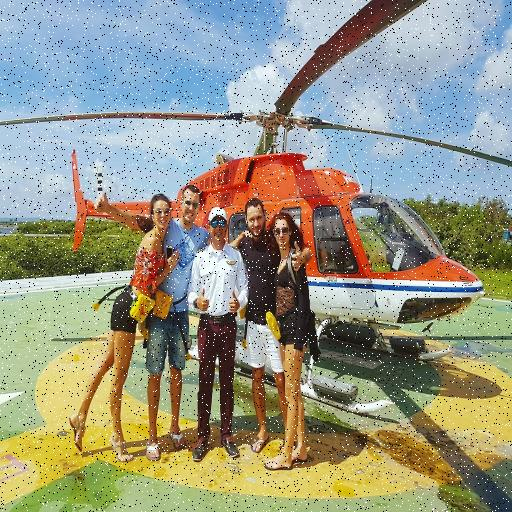helicopter: (55, 38, 500, 428)
